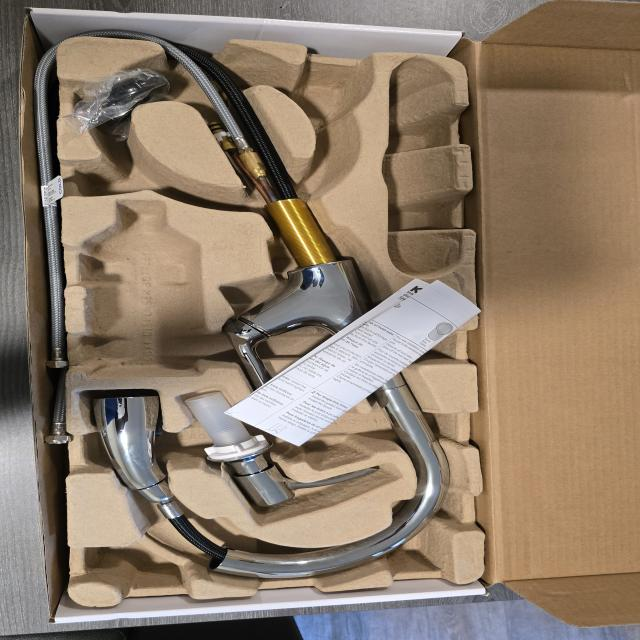1o: (91, 38, 451, 580)
2: (185, 392, 379, 508)
3m: (80, 199, 204, 379)
4m: (383, 59, 462, 276)
5m: (293, 71, 363, 124)
6m: (60, 141, 215, 208)
7: (75, 68, 169, 141)
8: (219, 277, 486, 448)
